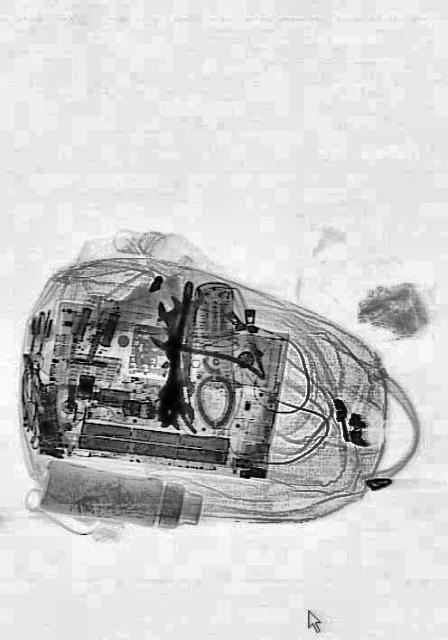Pliers: (129, 282, 263, 454)
Wrench: (156, 294, 194, 398)
